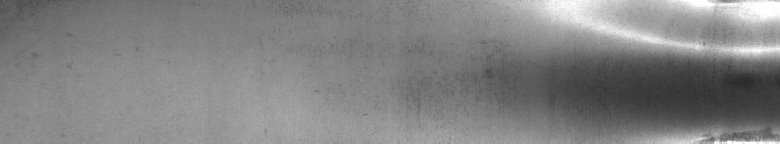ke: (581, 4, 776, 136)
